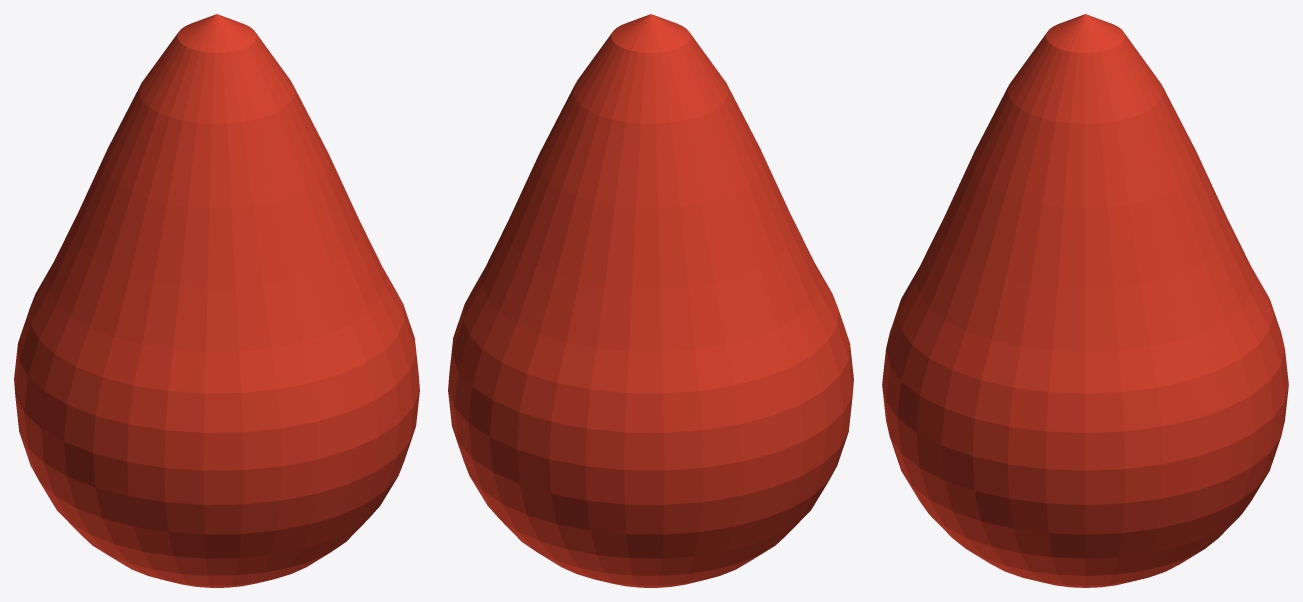
The model's file is enemy.fbx.
3 views of the same model, side by side, from view 1: azimuth 30°, elevation 25°; view 2: azimuth 150°, elevation 25°; view 3: azimuth 270°, elevation 25° (orthographic).
Parts seen in each view (by area): view 1: 球; view 2: 球; view 3: 球.
Part boxes in pixels (x1,y1,x2,y2): 球: [14, 14, 419, 587]; 球: [448, 14, 853, 587]; 球: [882, 14, 1288, 587].
Bounding box in the file's own units: 200 × 301 × 200.
Materials: 1 (1 with a texture image).
